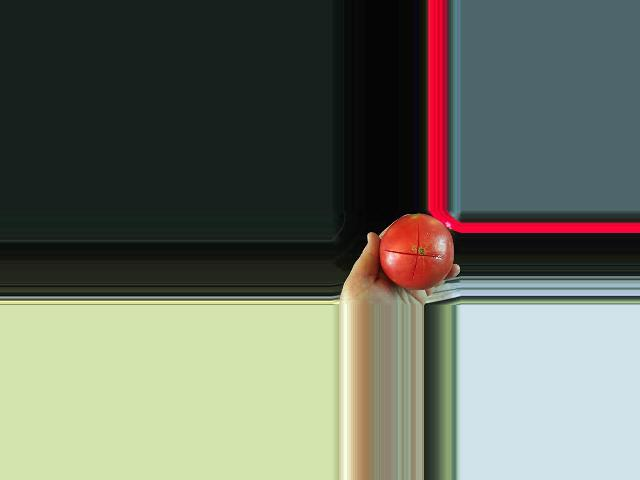tomato: (379, 214, 455, 290)
